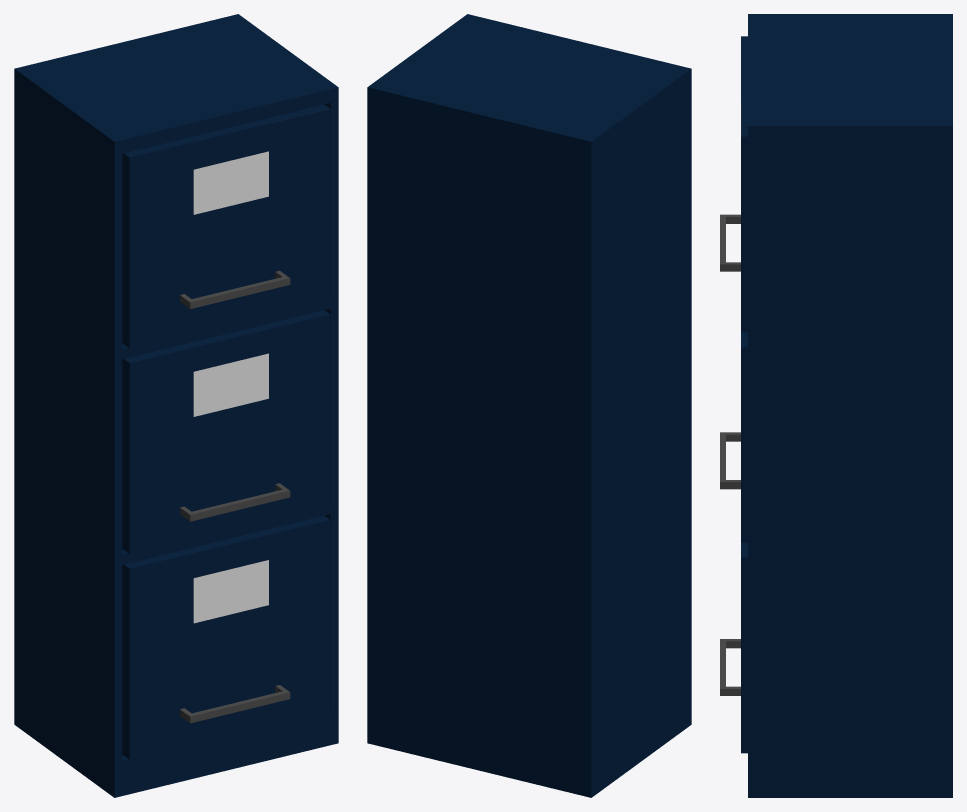
Rendered from ArchiveroCerrado.FBX.
The picture shows the model from 3 angles, left to right: view 1: azimuth 30°, elevation 25°; view 2: azimuth 150°, elevation 25°; view 3: azimuth 270°, elevation 25°; orthographic projection. The views are drawn at different scales.
Visible parts, largest first — view 1: ArchiveroCerrado; view 2: ArchiveroCerrado; view 3: ArchiveroCerrado.
Part boxes in pixels (x1,y1,x2,y2): ArchiveroCerrado: [14, 14, 338, 797]; ArchiveroCerrado: [367, 14, 691, 797]; ArchiveroCerrado: [720, 14, 952, 797].
Size of the model in its own units: 66.2 by 185 by 58.22.
